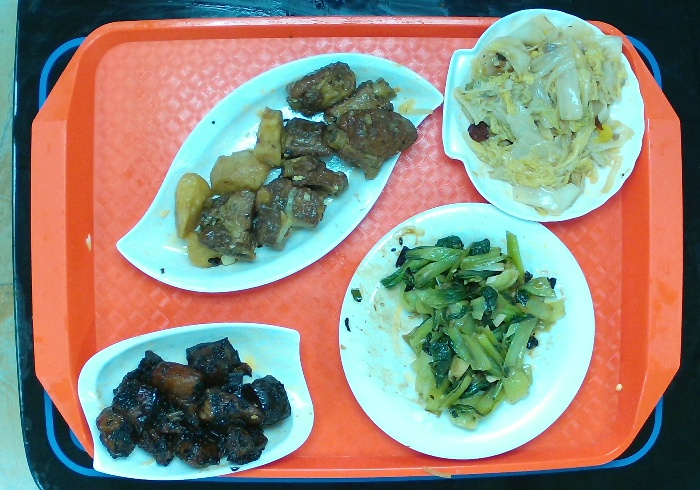RJxy-Bei_Ke_Wan: (435, 5, 651, 229)
RJxy-Jian_Jiao_Fang_Die: (72, 317, 320, 484)
RJxy-Jian_Jiao_Pan: (113, 49, 450, 297)
RJxy-Yuan_Pan: (332, 197, 600, 463)
